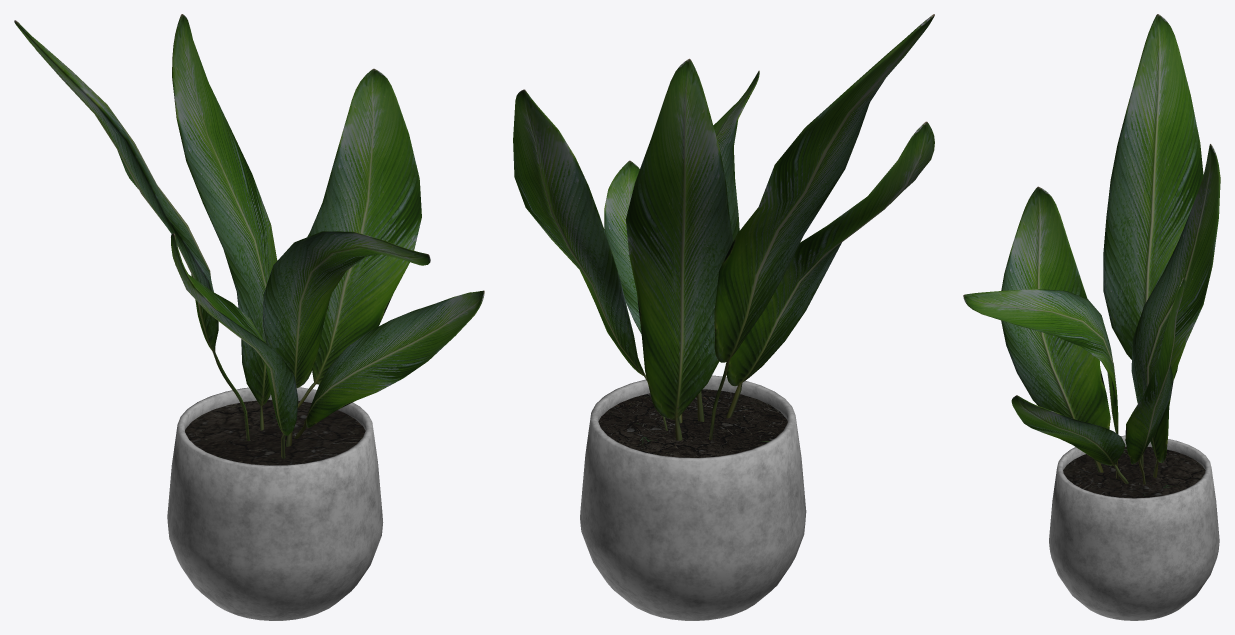
Rendered from indoor_plant_with_pot_a.glb.
3 views of the same model, side by side, from view 1: azimuth 30°, elevation 25°; view 2: azimuth 150°, elevation 25°; view 3: azimuth 270°, elevation 25° (orthographic). The views are drawn at different scales.
Visible parts, largest first — view 1: Pot A, Plane A1.002, Plane A1.001, Plane A1.005, Plane A1.004, Circle, Plane A1, Plane A1.003; view 2: Pot A, Plane A1.001, Plane A1, Plane A1.002, Plane A1.003, Circle, Plane A1.004, Plane A1.005; view 3: Pot A, Plane A1, Plane A1.003, Plane A1.001, Plane A1.005, Circle, Plane A1.002, Plane A1.004.
Boxes of the visible parts, x1=… form: Pot A: x1=167, y1=387, x2=383, y2=620; Plane A1.002: x1=297, y1=68, x2=421, y2=408; Plane A1.001: x1=172, y1=14, x2=277, y2=430; Plane A1.005: x1=263, y1=231, x2=430, y2=446; Plane A1.004: x1=294, y1=290, x2=484, y2=438; Circle: x1=185, y1=400, x2=365, y2=465; Plane A1: x1=14, y1=20, x2=249, y2=440; Plane A1.003: x1=171, y1=233, x2=298, y2=458; Pot A: x1=580, y1=375, x2=806, y2=620; Plane A1.001: x1=625, y1=58, x2=733, y2=440; Plane A1: x1=709, y1=14, x2=934, y2=439; Plane A1.002: x1=513, y1=89, x2=667, y2=430; Plane A1.003: x1=726, y1=121, x2=934, y2=418; Circle: x1=598, y1=389, x2=787, y2=457; Plane A1.004: x1=604, y1=160, x2=682, y2=423; Plane A1.005: x1=697, y1=70, x2=759, y2=421; Pot A: x1=1049, y1=435, x2=1219, y2=620; Plane A1: x1=1103, y1=14, x2=1203, y2=468; Plane A1.003: x1=1001, y1=186, x2=1110, y2=472; Plane A1.001: x1=1131, y1=144, x2=1220, y2=477; Plane A1.005: x1=963, y1=289, x2=1118, y2=479; Circle: x1=1063, y1=446, x2=1205, y2=498; Plane A1.002: x1=1125, y1=278, x2=1185, y2=484; Plane A1.004: x1=1011, y1=395, x2=1128, y2=483.
Bounding box in the file's own units: 0.6366 × 0.9455 × 0.4464.
3 materials, 3 textured.
